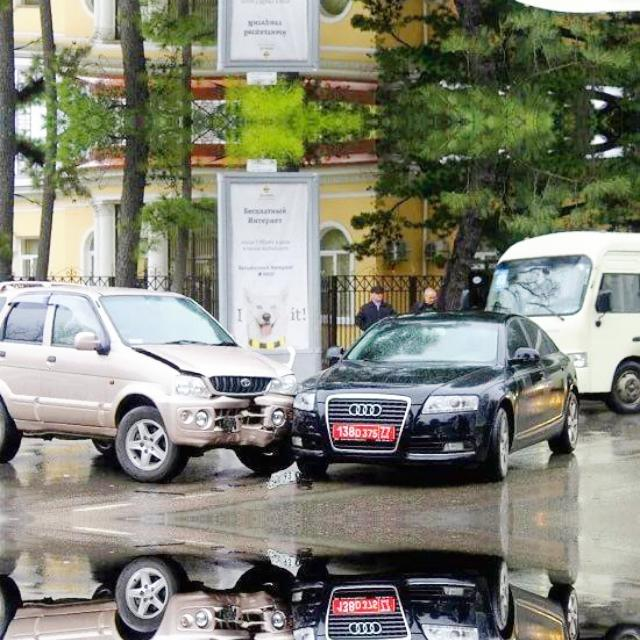diplomatic: (329, 419, 398, 449), (329, 588, 398, 618)
